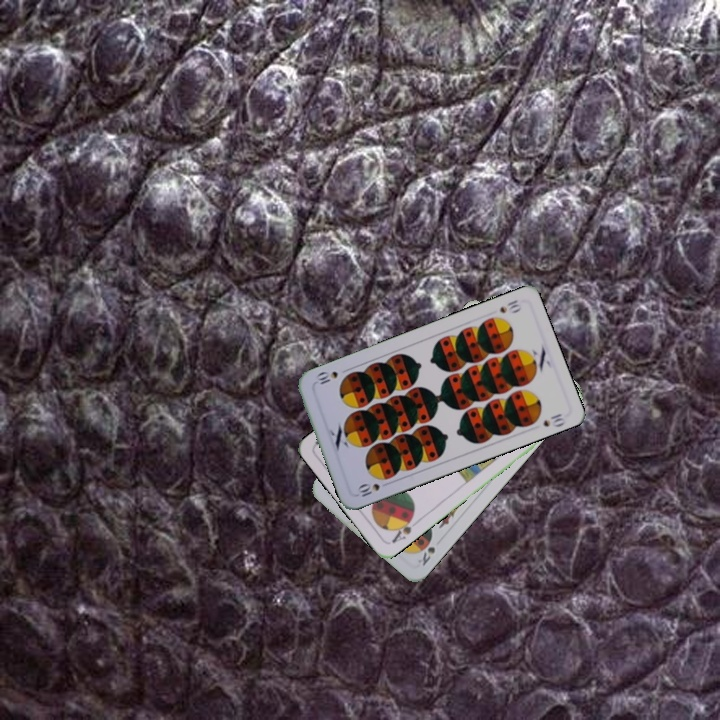S10: (353, 479, 382, 500), (495, 296, 524, 316)
SA: (387, 511, 421, 546)
SK: (413, 535, 438, 569)
